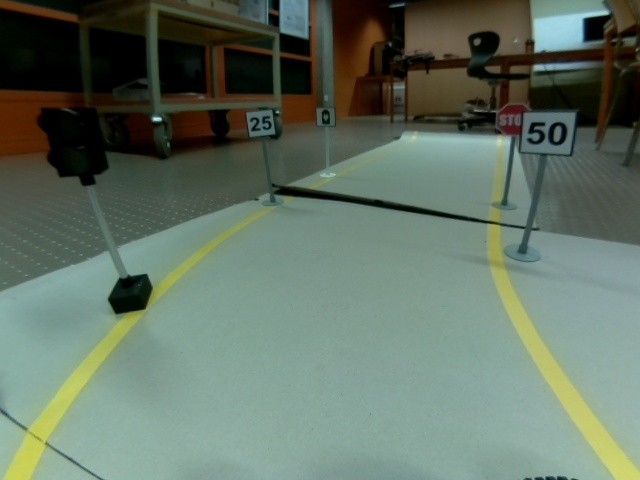battery: (314, 106, 337, 128)
speed25: (244, 109, 277, 139)
speed50: (520, 108, 576, 158)
stop: (495, 102, 531, 137)
traffic light: (35, 104, 112, 179)
